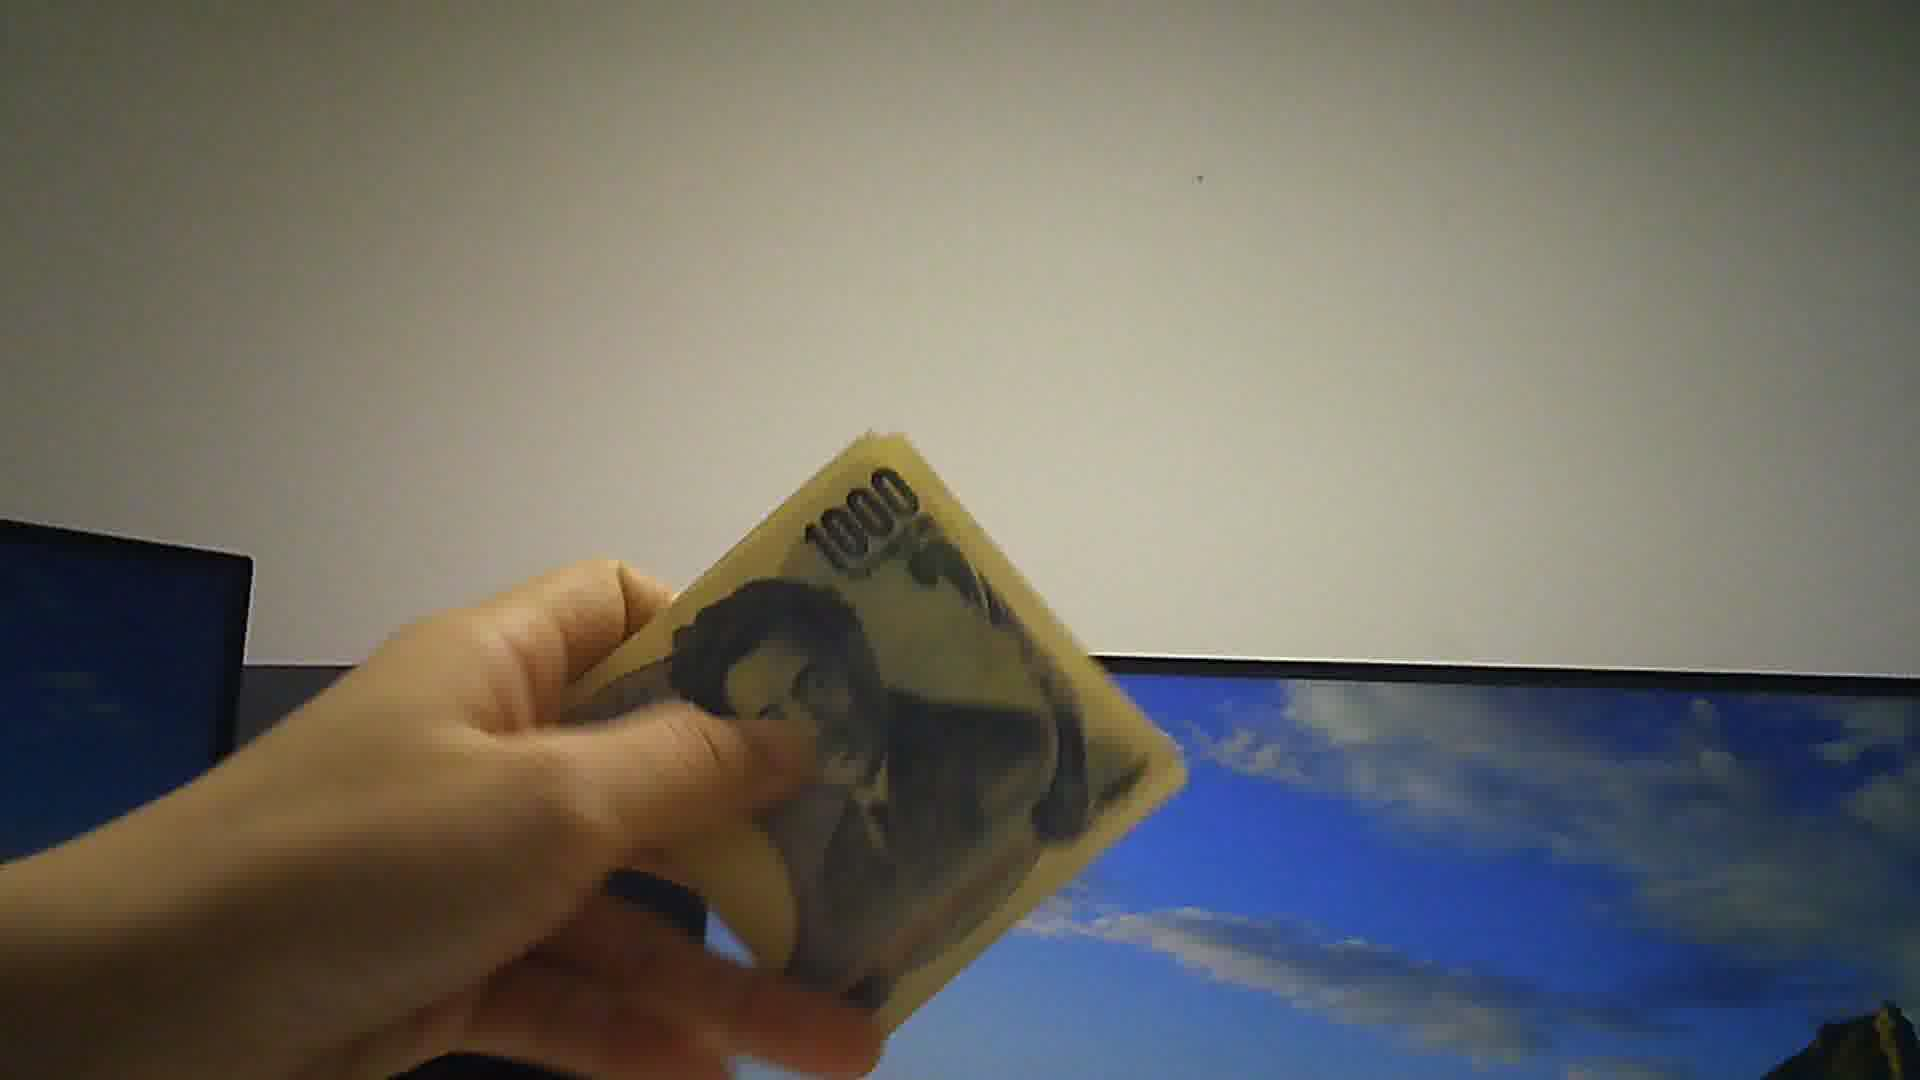1,000 Yen: (524, 419, 1192, 1044)
